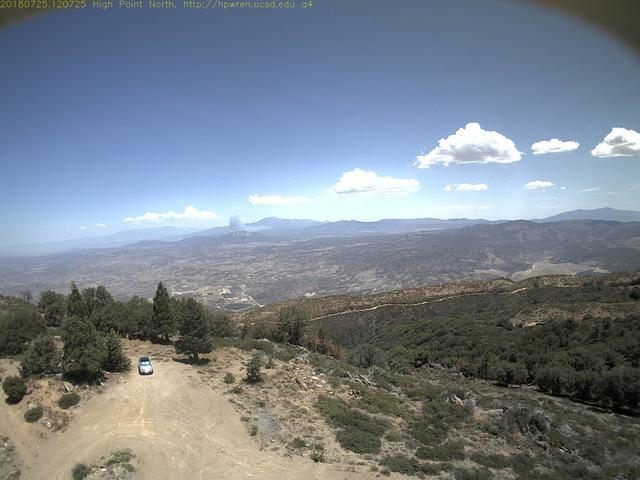smoke: (211, 209, 270, 237)
